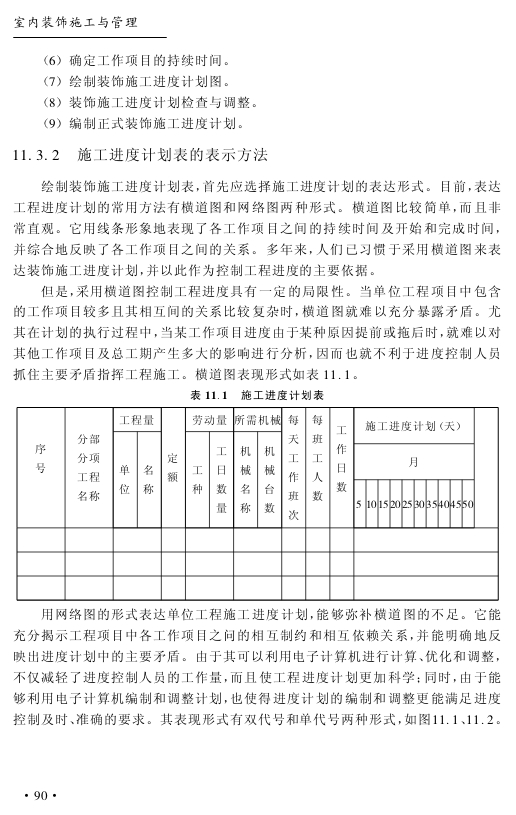table: (16, 405, 499, 600)
